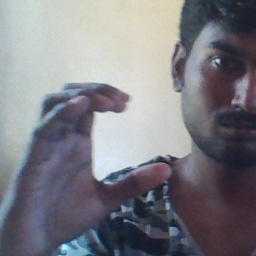C: (29, 77, 177, 206)
